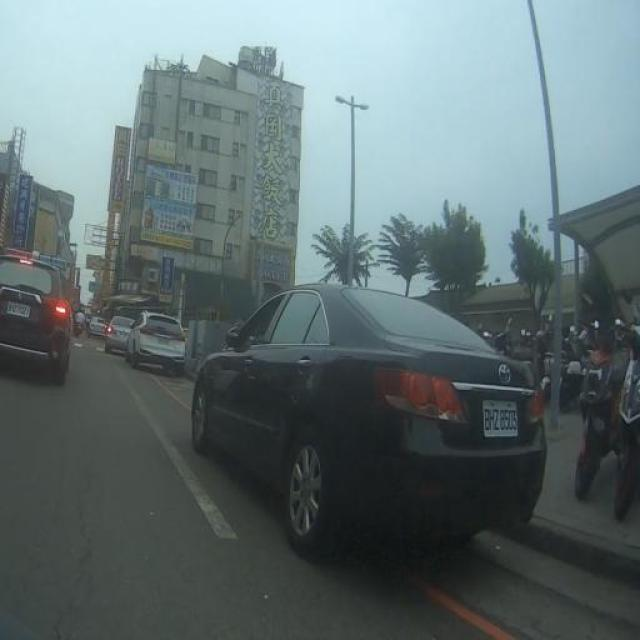Legalparking: (574, 299, 640, 576)
illegalparking: (96, 229, 552, 589)
